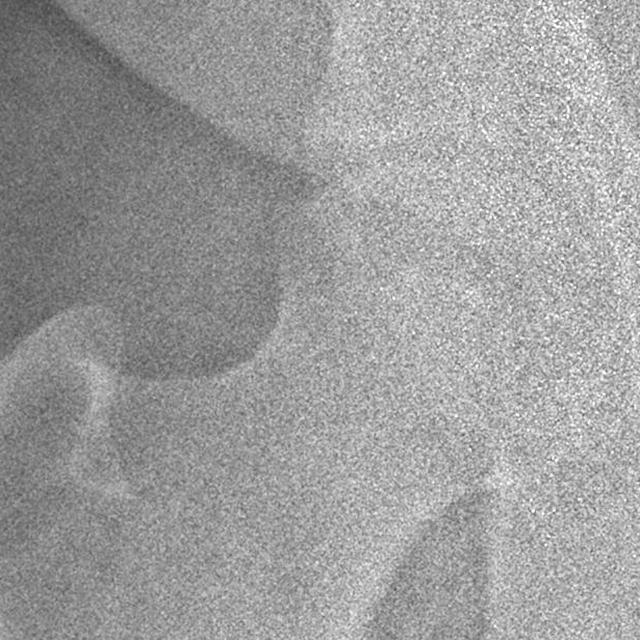Fitted_femural_head: (349, 157, 432, 349)
